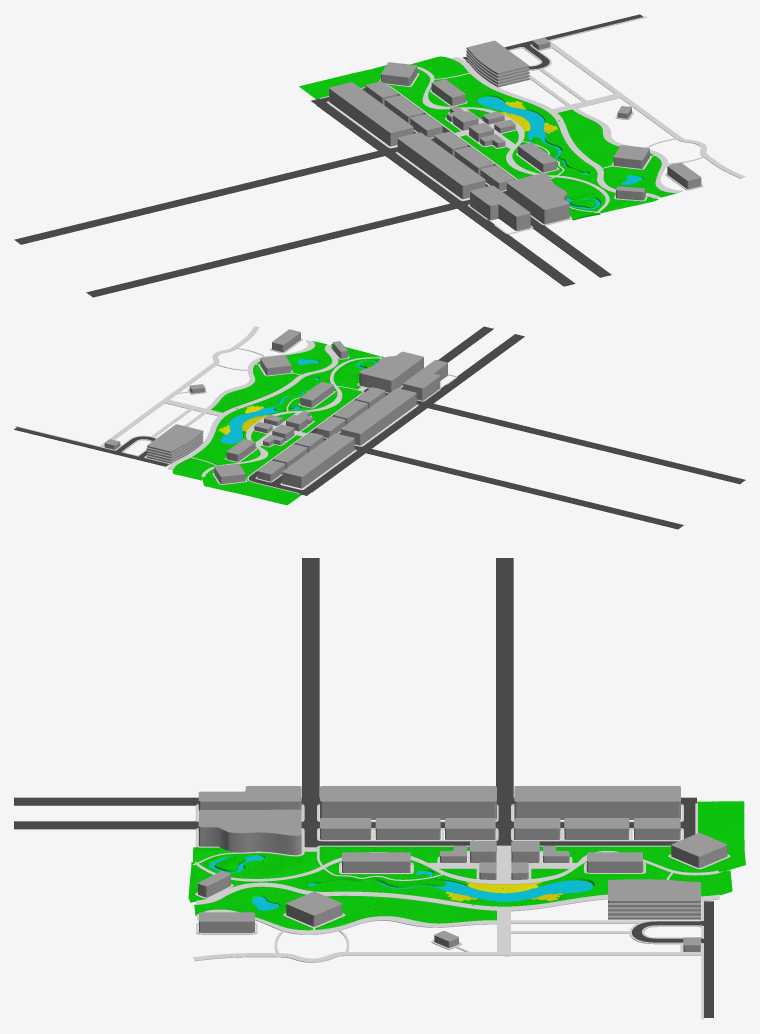
File: ParkExport.fbx
The picture shows the model from 3 angles, top to bottom: view 1: azimuth 30°, elevation 25°; view 2: azimuth 150°, elevation 25°; view 3: azimuth 270°, elevation 25°; orthographic projection. The views are drawn at different scales.
Parts seen in each view (by area): view 1: sweep55, sweep93, polySurface38, sweep122, polySurface2, pCube10, polySurface1, polySurface45, polySurface63, pCube2, polySurface59, polySurface52 (+14 smaller); view 2: sweep55, sweep93, polySurface38, sweep122, polySurface2, pCube10, polySurface45, polySurface1, polySurface63, pCube2, polySurface52, polySurface59 (+15 smaller); view 3: sweep55, polySurface38, sweep93, sweep122, polySurface2, pCube10, polySurface1, polySurface45, polySurface63, pCube2, polySurface59, polySurface52 (+16 smaller).
Part boxes in pixels (x1,y1,x2,y2): sweep55: (14, 88, 611, 297); sweep93: (428, 74, 658, 214); polySurface38: (319, 57, 660, 225); sweep122: (465, 16, 745, 193); polySurface2: (397, 132, 485, 199); pCube10: (329, 82, 413, 146); polySurface1: (506, 173, 569, 224); polySurface45: (299, 65, 460, 132); polySurface63: (558, 109, 653, 167); pCube2: (470, 185, 530, 230); polySurface59: (603, 156, 676, 197); polySurface52: (466, 40, 529, 74); sweep55: (249, 326, 745, 529); sweep93: (192, 344, 383, 465); polySurface38: (168, 344, 403, 493); sweep122: (15, 326, 315, 464); polySurface2: (341, 388, 416, 445); pCube10: (282, 433, 354, 488); polySurface45: (202, 435, 301, 505); polySurface1: (359, 351, 423, 392); polySurface63: (211, 364, 299, 412); pCube2: (403, 360, 447, 400); polySurface52: (147, 424, 203, 452); polySurface59: (257, 341, 332, 374); sweep55: (14, 558, 696, 847); polySurface38: (192, 803, 719, 911); sweep93: (188, 861, 670, 906); sweep122: (192, 900, 703, 1019); polySurface2: (320, 786, 496, 819); pCube10: (514, 786, 680, 819); polySurface1: (198, 809, 301, 855); polySurface45: (511, 801, 745, 872); polySurface63: (315, 896, 496, 929); pCube2: (198, 786, 301, 810); polySurface59: (194, 887, 312, 930); polySurface52: (608, 879, 700, 902).
Bounding box in the file's own units: 868 × 24.3 × 582.
